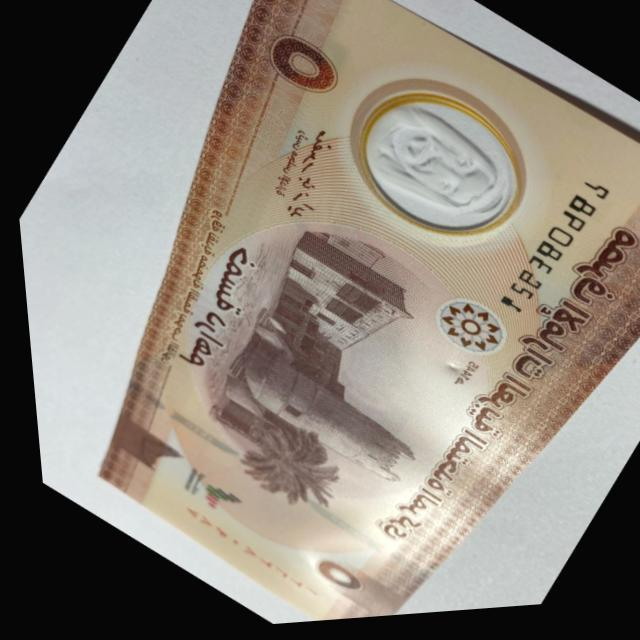5_AED: (95, 0, 640, 622)
